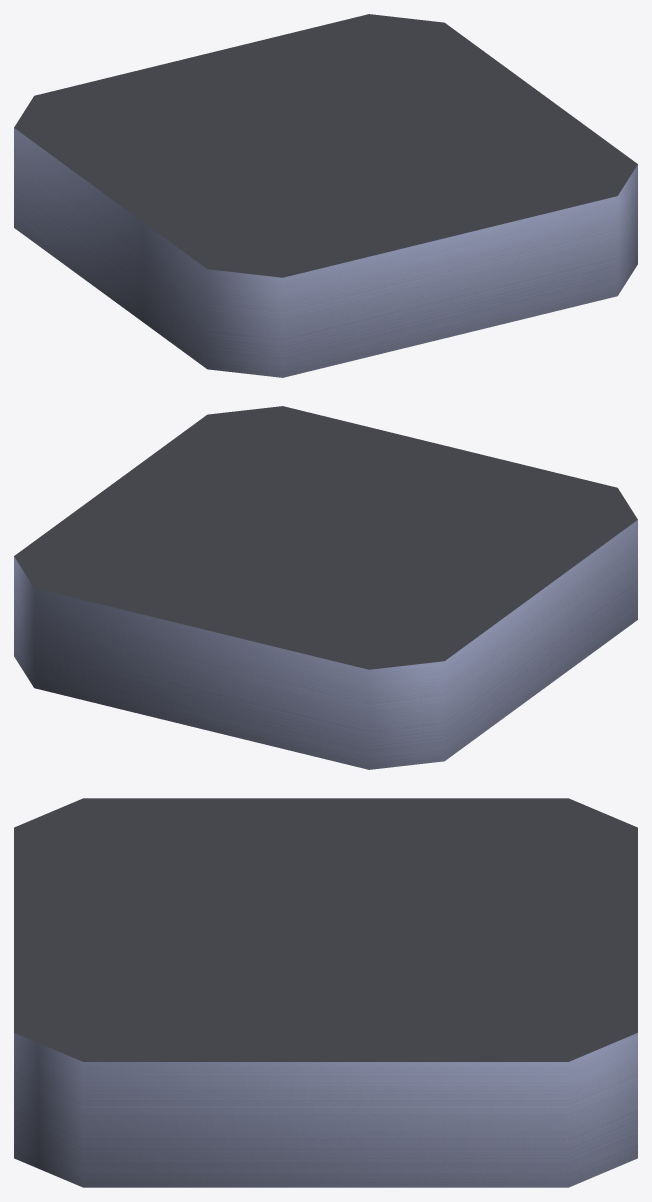
3 views of the same model, one above another, from view 1: azimuth 30°, elevation 25°; view 2: azimuth 150°, elevation 25°; view 3: azimuth 270°, elevation 25° (orthographic). The views are drawn at different scales.
Visible parts, largest first — view 1: debris-plate-small-a; view 2: debris-plate-small-a; view 3: debris-plate-small-a.
Boxes of the visible parts, <box> form: debris-plate-small-a: <box>14,14,637,377</box>; debris-plate-small-a: <box>14,406,637,769</box>; debris-plate-small-a: <box>14,798,637,1187</box>.
Bounding box in the file's own units: 0.45 × 0.1 × 0.45.
Materials: 1 (1 with a texture image).
